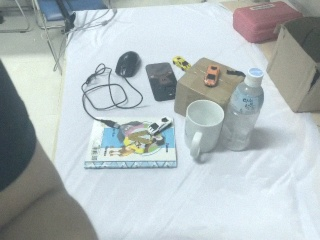book: (82, 114, 180, 172)
bottle: (218, 66, 265, 153)
box: (265, 15, 320, 114), (176, 58, 246, 111)
cup: (182, 98, 225, 164)
mouse: (115, 51, 142, 78)
phone: (146, 62, 177, 102)
toy_car: (147, 113, 171, 135), (204, 64, 220, 86), (172, 55, 191, 72)
